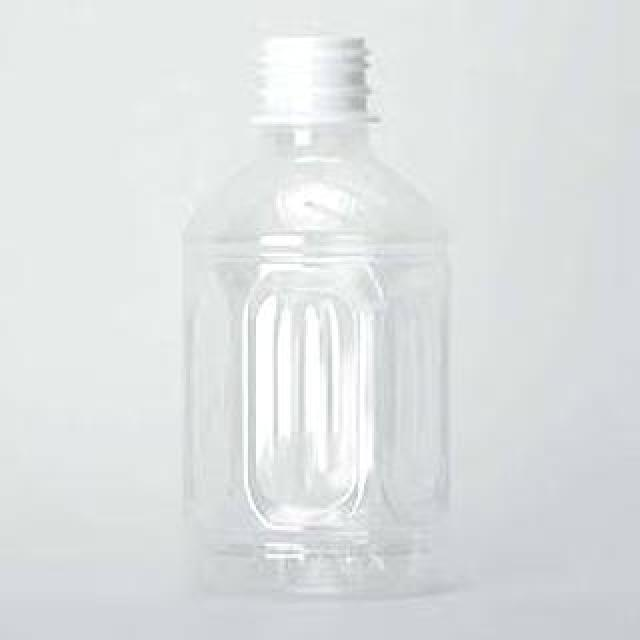Pet_Bottle: (172, 65, 460, 601)
